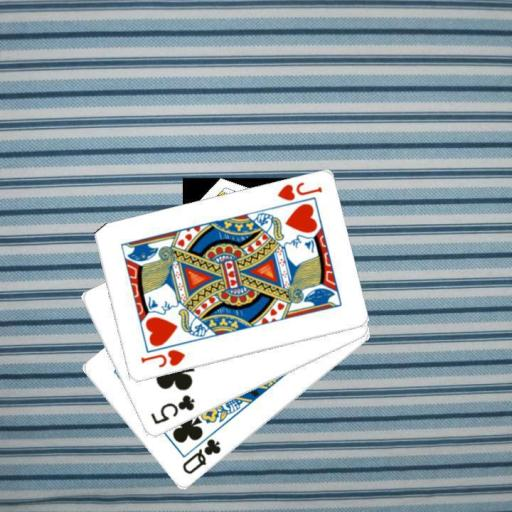card-corner: (178, 436, 222, 476), (147, 392, 196, 426), (274, 179, 324, 203), (138, 346, 186, 370)
